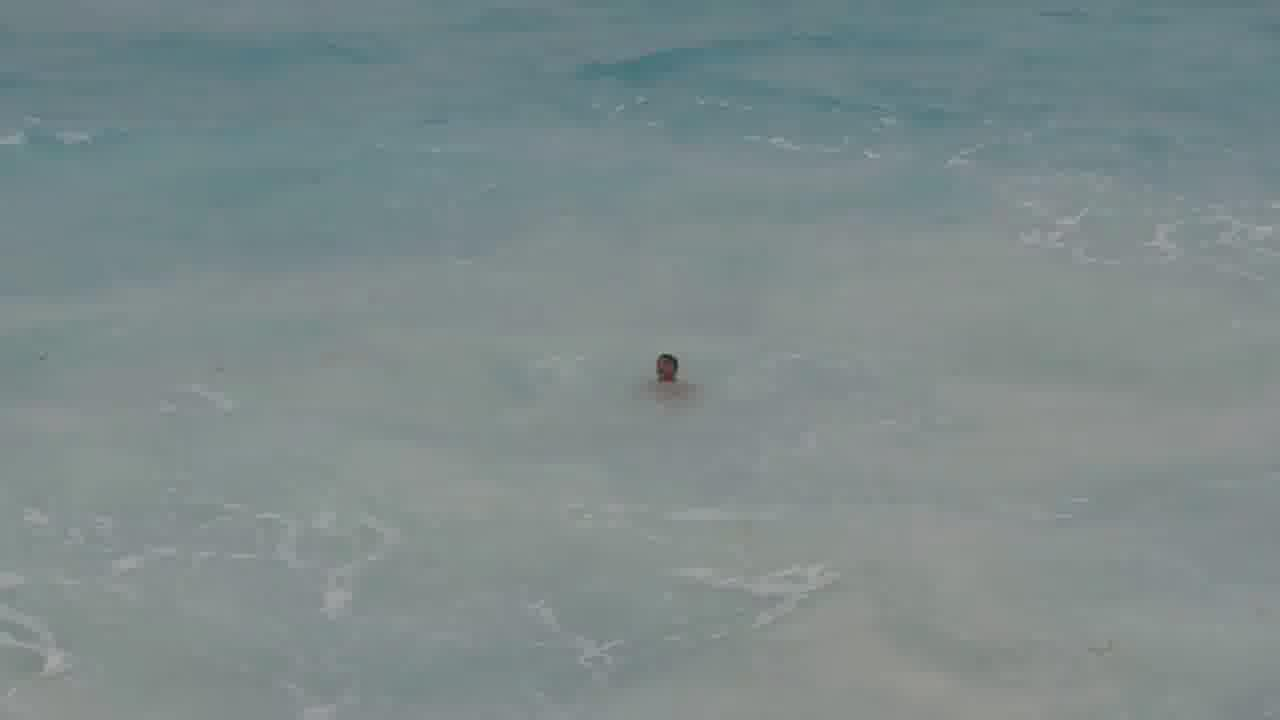swimmer: (640, 341, 700, 395)
